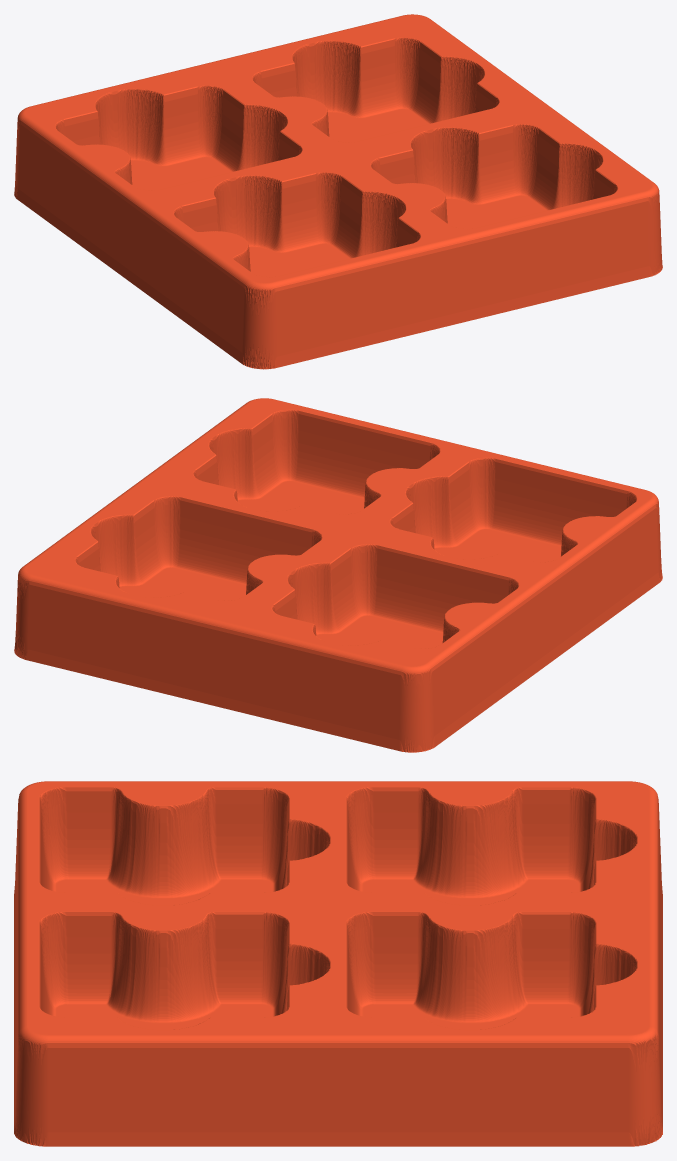
File: mold.glb
The picture shows the model from 3 angles, top to bottom: view 1: azimuth 30°, elevation 25°; view 2: azimuth 150°, elevation 25°; view 3: azimuth 270°, elevation 25°; orthographic projection. The views are drawn at different scales.
Visible parts, largest first — view 1: geometry_0; view 2: geometry_0; view 3: geometry_0.
Boxes of the visible parts, x1,y1,x2,y2 form: geometry_0: [14, 14, 662, 369]; geometry_0: [14, 398, 662, 752]; geometry_0: [14, 781, 662, 1146].
Size of the model in its own units: 0.1659 by 0.031 by 0.1721.
